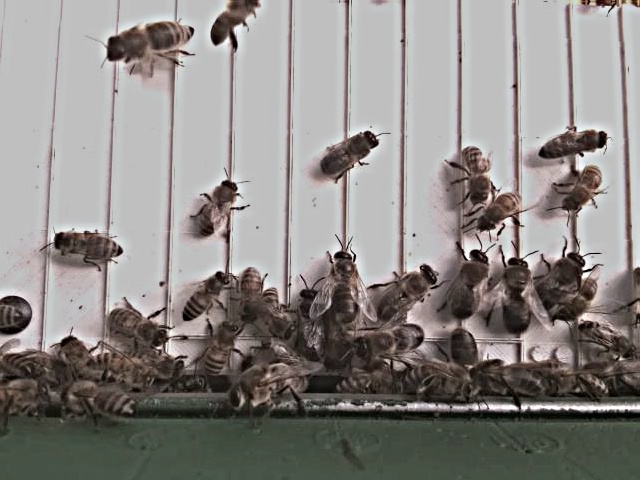Drone: (374, 261, 442, 324), (532, 247, 589, 313), (448, 244, 495, 322), (319, 124, 382, 177), (354, 319, 430, 360), (500, 250, 536, 335), (327, 243, 362, 328), (295, 277, 326, 364)
Worker: (110, 16, 189, 61), (106, 304, 173, 350), (182, 266, 233, 324), (50, 226, 129, 263), (577, 317, 640, 362), (199, 173, 242, 237), (538, 124, 614, 160), (199, 318, 242, 378), (561, 160, 607, 212), (459, 142, 494, 206), (480, 185, 528, 231), (261, 284, 297, 342), (237, 260, 267, 320)
